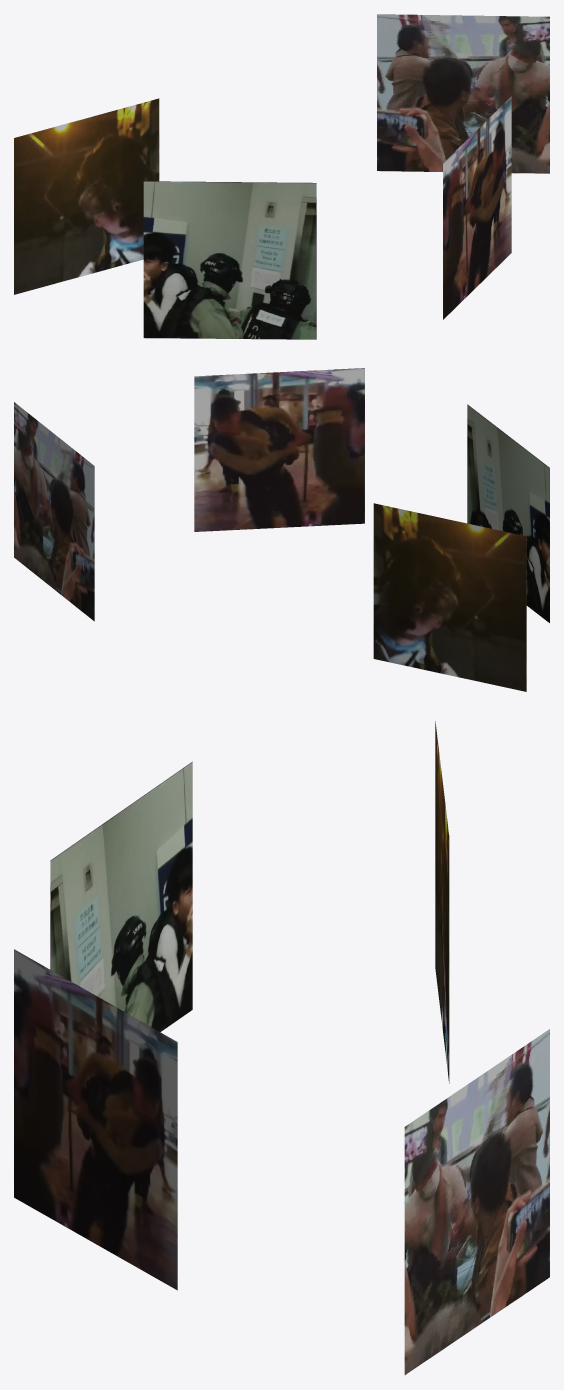
Rendered from brutalityisarhythm.glb.
3 views of the same model, one above another, from view 1: azimuth 30°, elevation 25°; view 2: azimuth 150°, elevation 25°; view 3: azimuth 270°, elevation 25° (orthographic). The views are drawn at different scales.
Visible parts, largest first — view 1: videotarget; view 2: videotarget; view 3: videotarget.
Boxes of the visible parts, <box> form: videotarget: <box>14,14,549,339</box>; videotarget: <box>14,368,549,691</box>; videotarget: <box>14,721,549,1374</box>.
Bounding box in the file's own units: 7.02 × 2 × 3.91.
Materials: 1 (1 with a texture image).
